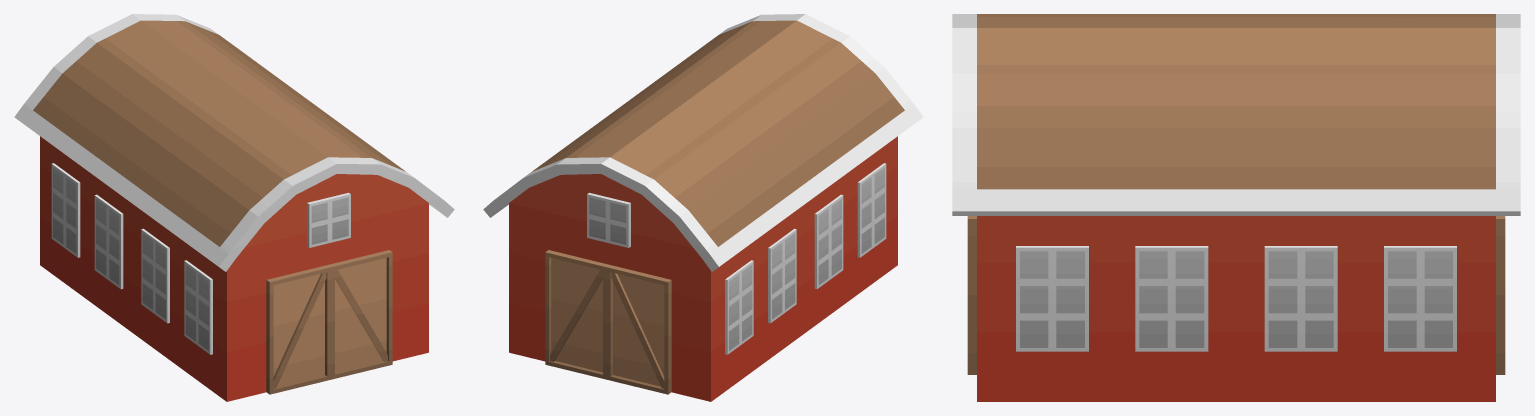
File: farm_barn.glb
3 views of the same model, side by side, from view 1: azimuth 30°, elevation 25°; view 2: azimuth 150°, elevation 25°; view 3: azimuth 270°, elevation 25° (orthographic). The views are drawn at different scales.
Parts seen in each view (by area): view 1: farm_barn; view 2: farm_barn; view 3: farm_barn.
Part boxes in pixels (x1=…): farm_barn: x1=14, y1=14, x2=454, y2=401; farm_barn: x1=483, y1=14, x2=923, y2=401; farm_barn: x1=952, y1=14, x2=1520, y2=401.
Size of the model in its own units: 6.96 by 6.2 by 10.46.
1 material, 1 textured.
